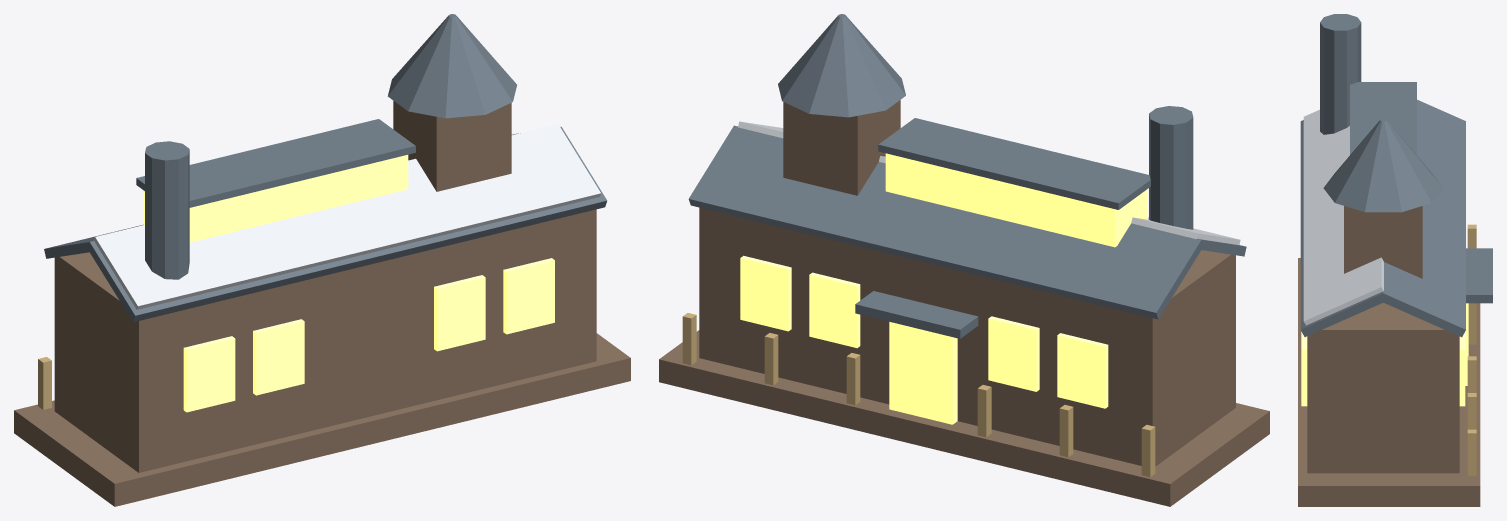
The model's file is child_shelter.glb.
The picture shows the model from 3 angles, left to right: view 1: azimuth 30°, elevation 25°; view 2: azimuth 150°, elevation 25°; view 3: azimuth 270°, elevation 25°; orthographic projection. The views are drawn at different scales.
Parts seen in each view (by area): view 1: child_shelter_Building; view 2: child_shelter_Building; view 3: child_shelter_Building.
Boxes of the visible parts, <box> form: child_shelter_Building: <box>14,14,630,506</box>; child_shelter_Building: <box>659,14,1269,506</box>; child_shelter_Building: <box>1298,14,1492,506</box>.
Size of the model in its own units: 4.68 by 3.14 by 1.69.
